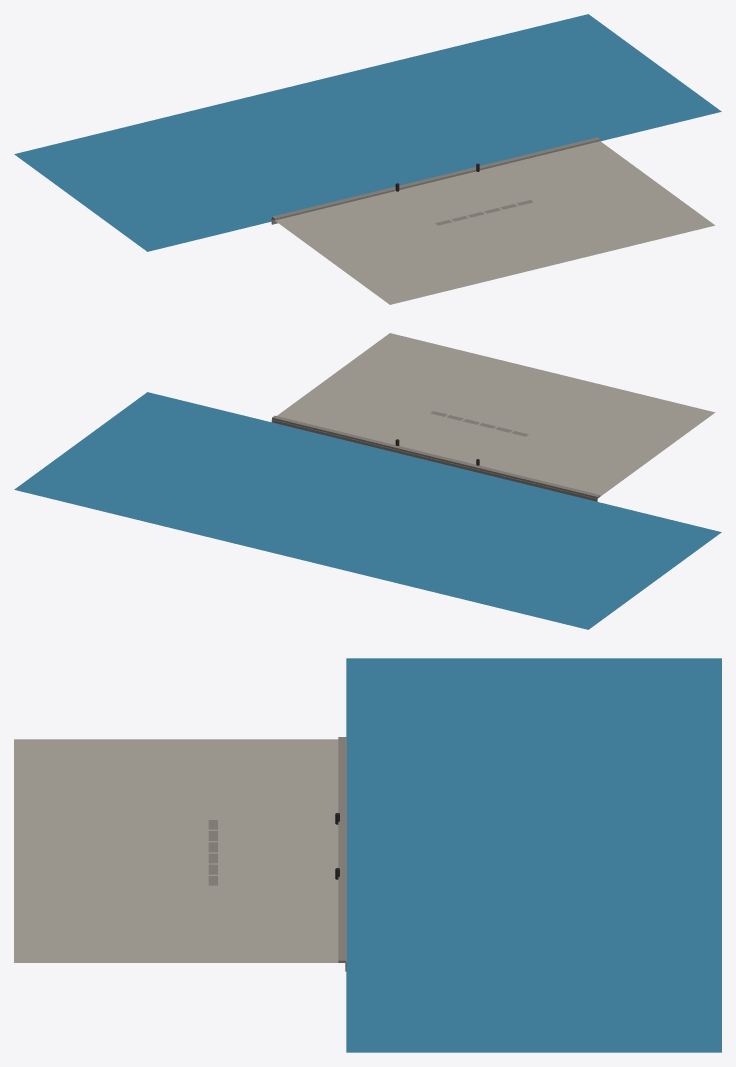
File: shell_cart_low.fbx
3 renders of one model, top to bottom at view 1: azimuth 30°, elevation 25°; view 2: azimuth 150°, elevation 25°; view 3: azimuth 270°, elevation 25°, orthographic. The views are drawn at different scales.
Visible parts, largest first — view 1: shell_cart_low; view 2: shell_cart_low; view 3: shell_cart_low.
Boxes of the visible parts, box(x1,y1,x2,y2) form: shell_cart_low: box(14, 14, 721, 304); shell_cart_low: box(14, 333, 721, 629); shell_cart_low: box(14, 658, 721, 1052).
Bounding box in the file's own units: 60 × 1.3 × 45.5.
